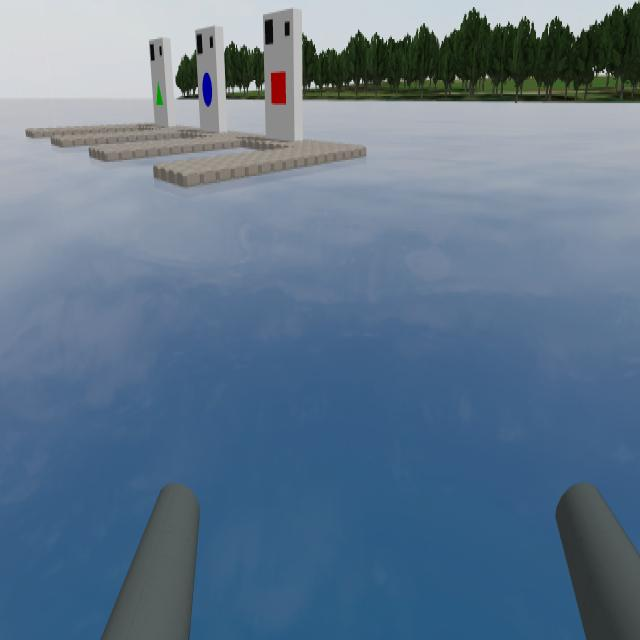dock: (264, 10, 300, 140), (196, 27, 222, 129), (149, 37, 175, 120)
